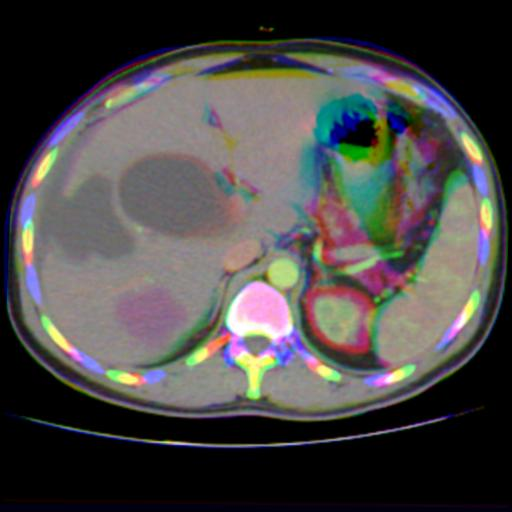Cyst: (120, 154, 234, 235), (41, 178, 133, 259)
